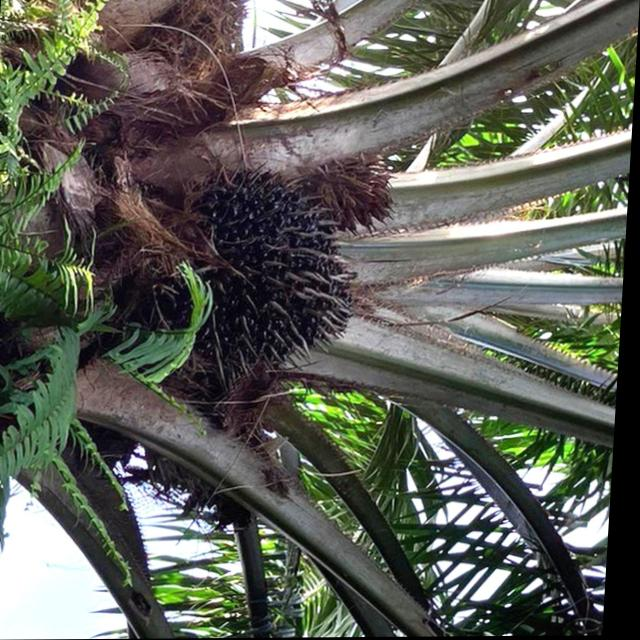unripe: (121, 152, 373, 402)
